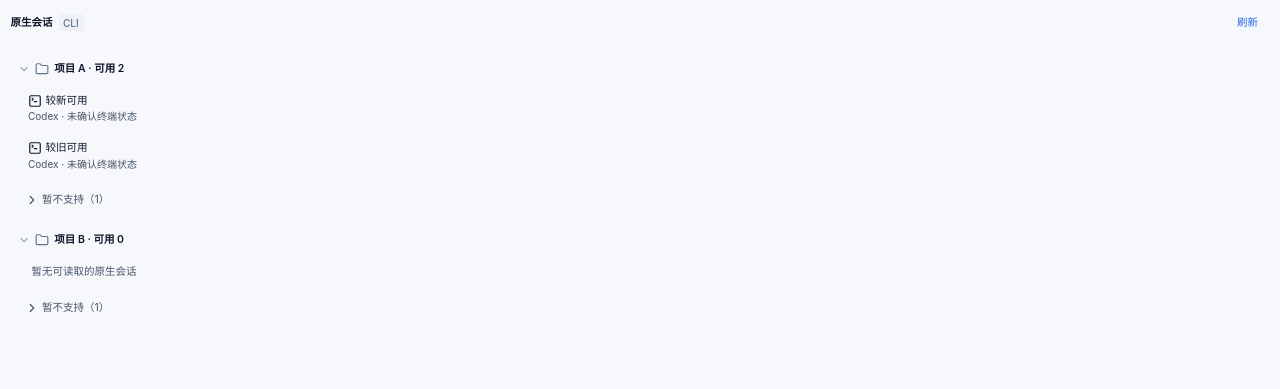
Scenario: native format availability remote=false › counts within each workspace, sorts readable newest first and folds unsupported at the end
Expected: the heading "项目 A · 可用 2" is shown, [54, 62, 124, 76]
Expected: the text with test id "native-empty-readable" reads "暂无可读取的原生会话", [32, 265, 136, 278]
Click the button with test id "native-unavailable-toggle" at (76, 200), box [18, 181, 1270, 219]
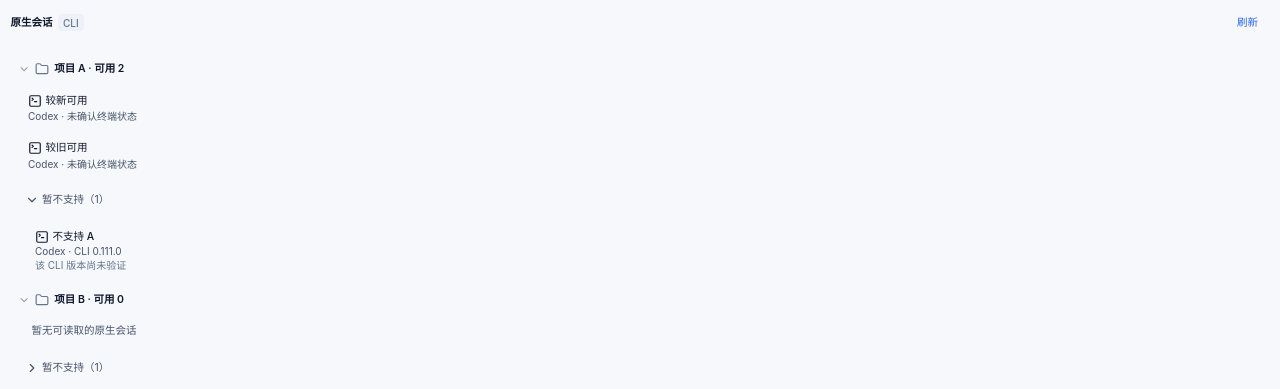
Expected: the button with test id "native-unavailable" shows "Codex · CLI 0.111.0", [24, 223, 1270, 279]
Expected: the button with test id "native-unavailable" shows "该 CLI 版本尚未验证", [24, 223, 1270, 279]
